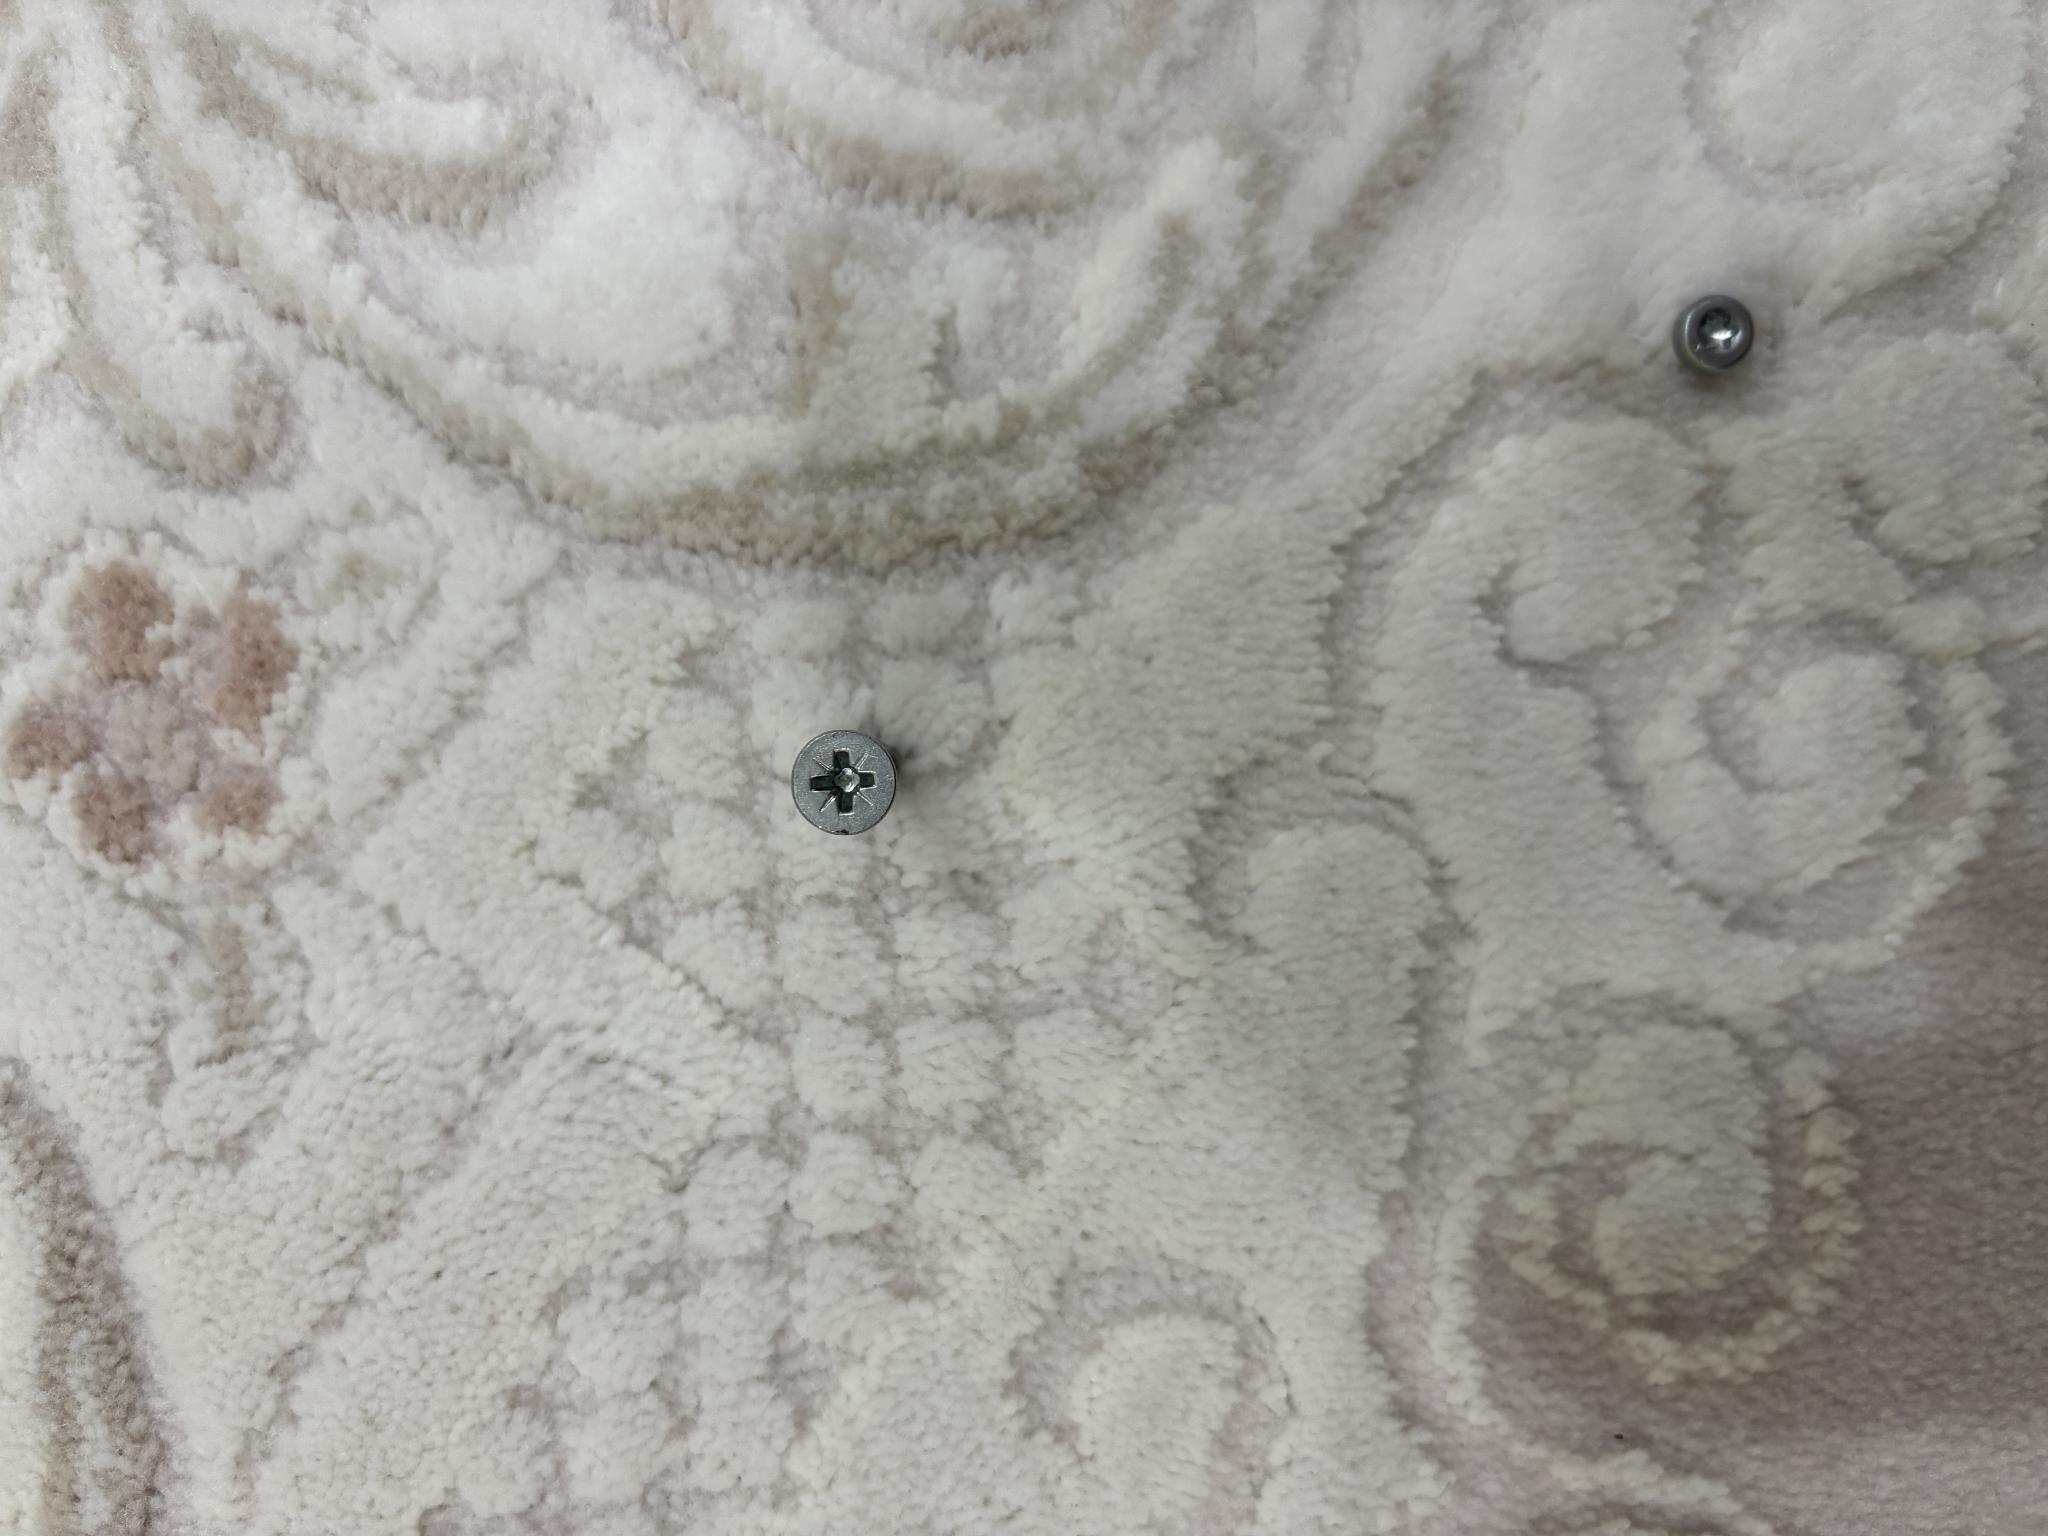PZ: (701, 791, 805, 899)
